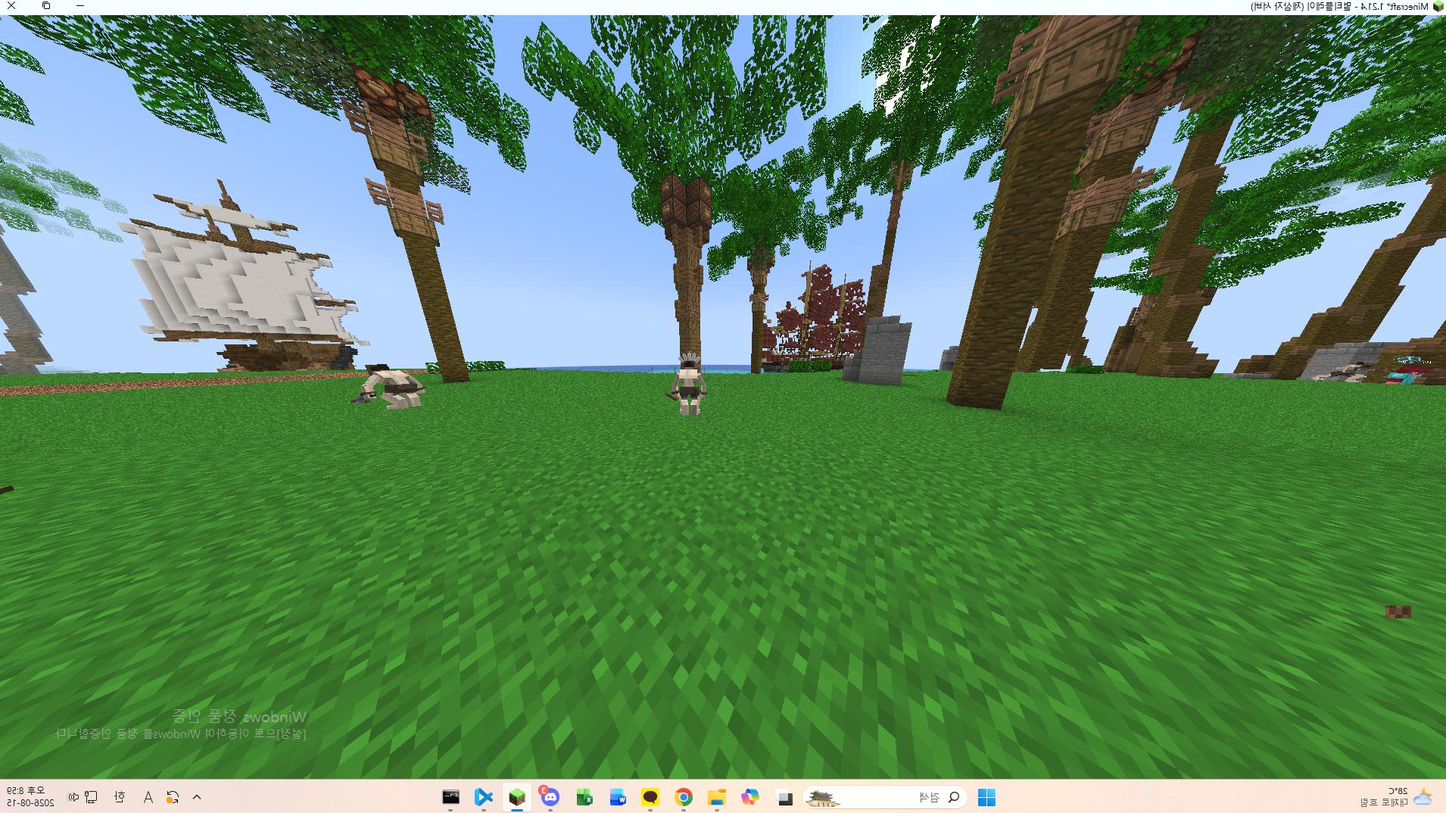bow_indian: (649, 345, 718, 422)
